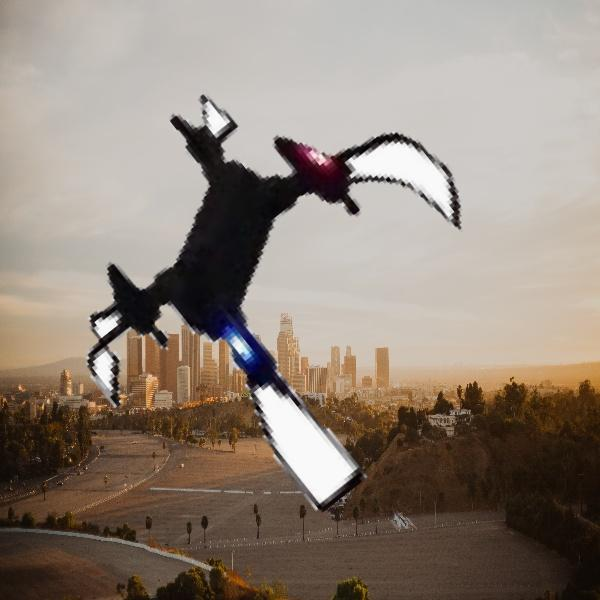drone: (60, 66, 489, 495)
